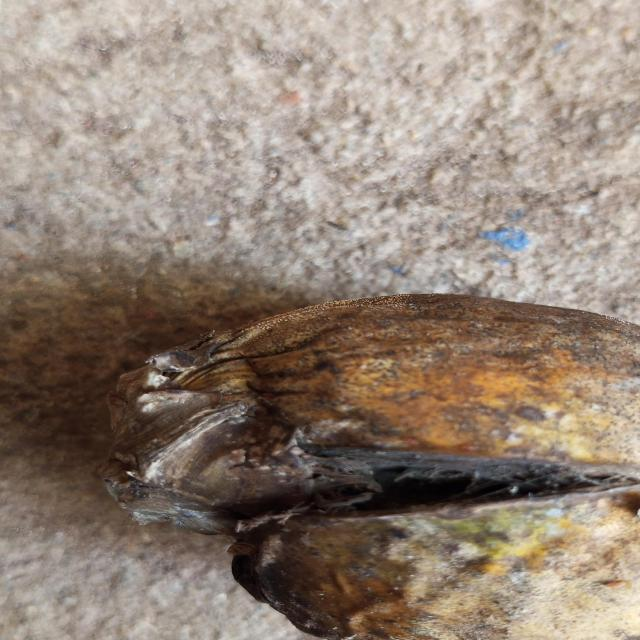damaged: (101, 294, 639, 640)
